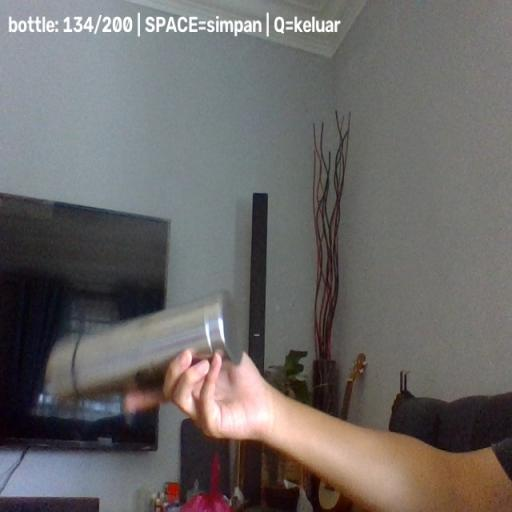Bottle: (44, 290, 247, 405)
